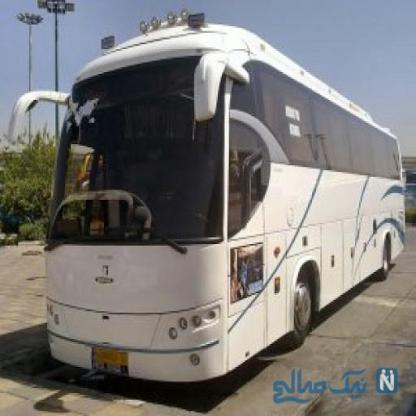Bus: (0, 11, 413, 397)
